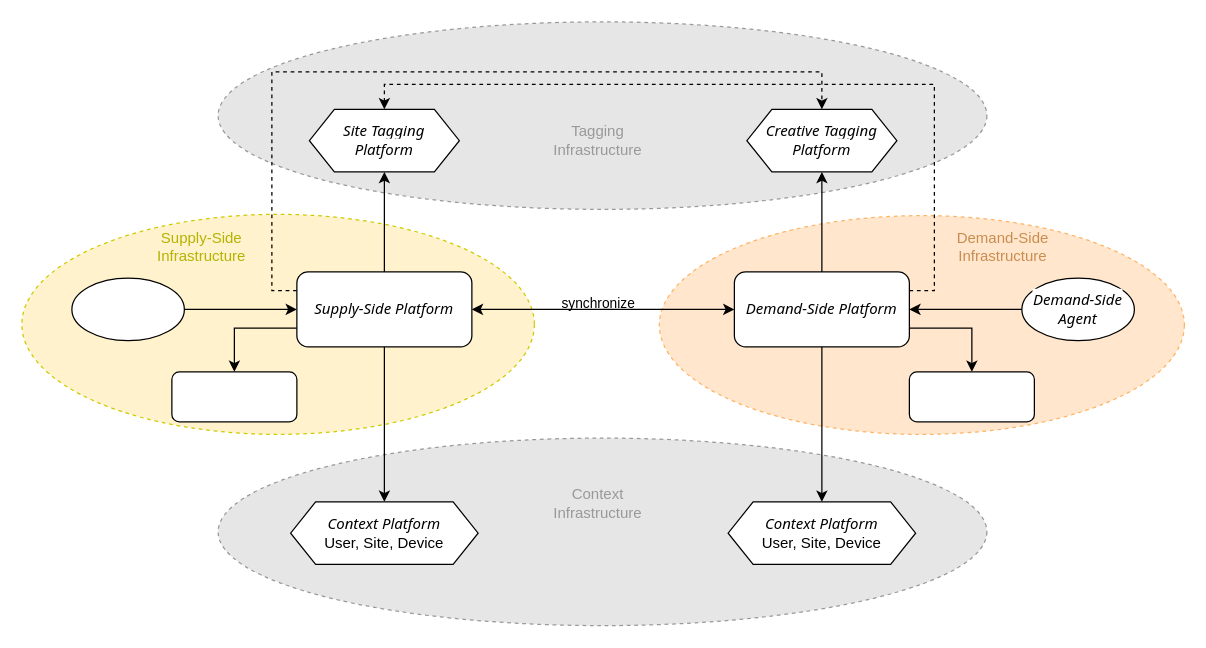
Some shapes in this 1206 by 648 pixel diagram are drawn without their labels. Here are the shapes that lost their labels. From the top down, the centre of each, then its label:
At point (127, 309): "Supply-Side Agent".
At point (234, 396): "Ad Select Module".
At point (971, 396): "Ad Pay Module".
